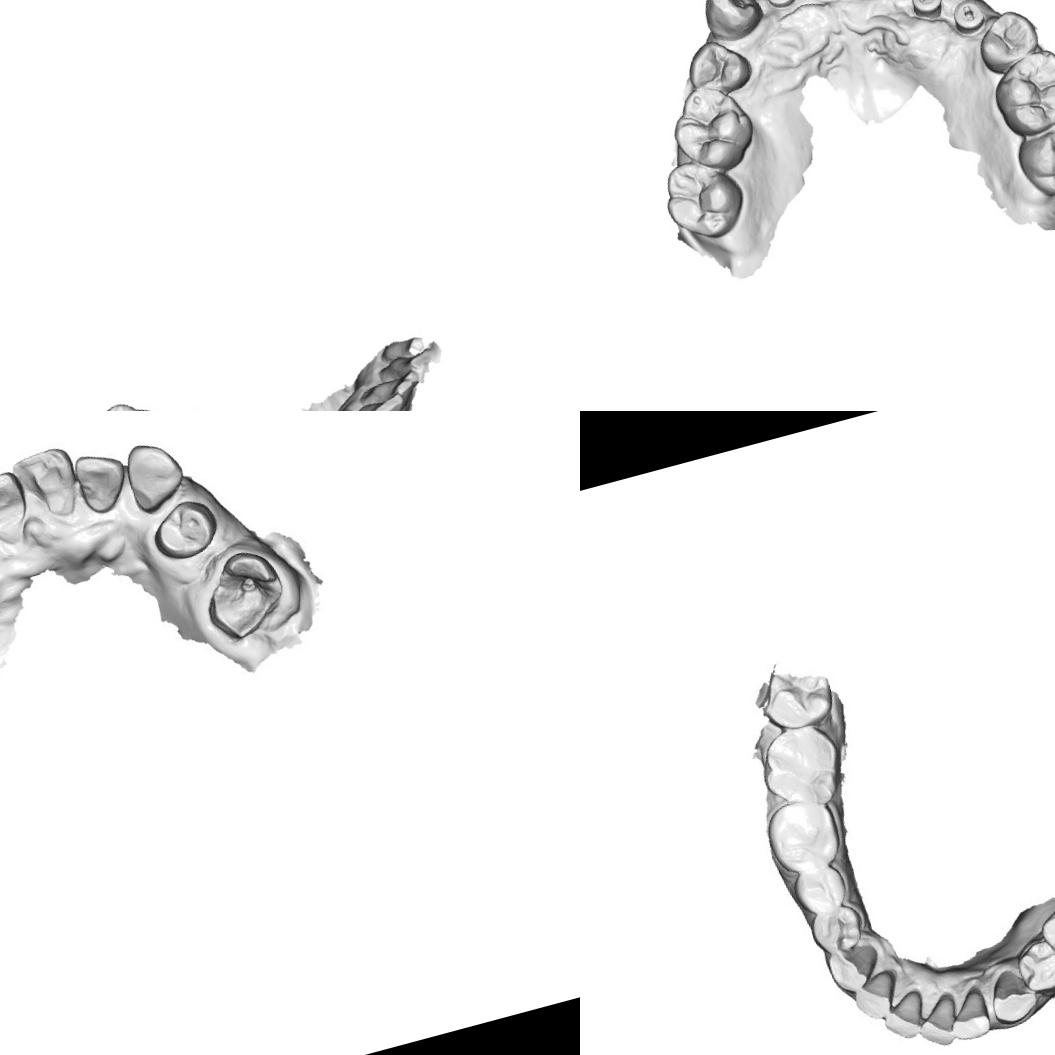canine: (115, 432, 195, 518), (984, 962, 1042, 1023), (822, 938, 883, 996), (695, 0, 768, 47)
implant_minus: (948, 0, 988, 38), (905, 0, 947, 25), (760, 0, 800, 12)
incisor: (11, 440, 80, 518), (64, 443, 135, 518), (945, 984, 1002, 1046), (846, 967, 904, 1023), (913, 990, 963, 1049), (0, 462, 34, 547), (356, 368, 422, 410), (876, 989, 926, 1044), (370, 346, 438, 382), (352, 391, 413, 411)
molar: (662, 75, 762, 182), (655, 148, 753, 250), (754, 786, 850, 882), (751, 720, 844, 810), (984, 43, 1055, 142), (1008, 111, 1055, 203), (78, 390, 174, 411)
premolar: (142, 490, 226, 570), (970, 3, 1046, 78), (680, 31, 756, 102), (791, 854, 855, 921), (810, 902, 866, 957), (1011, 933, 1055, 996), (1036, 897, 1055, 970)
